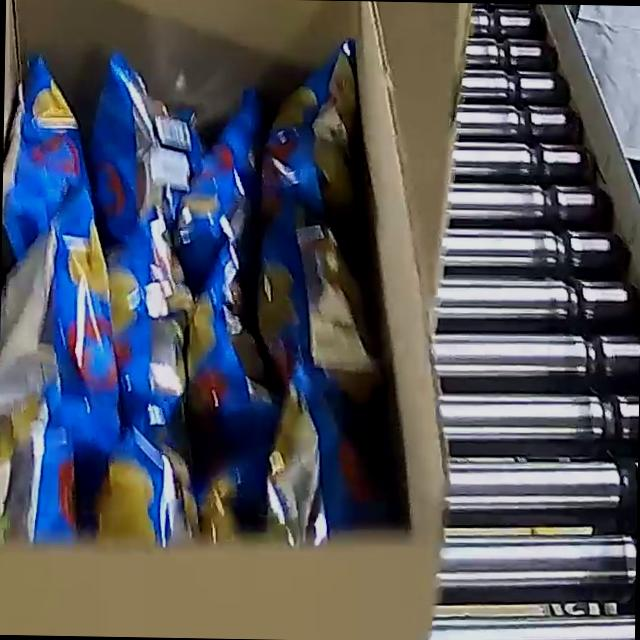paprika: (0, 28, 412, 553)
